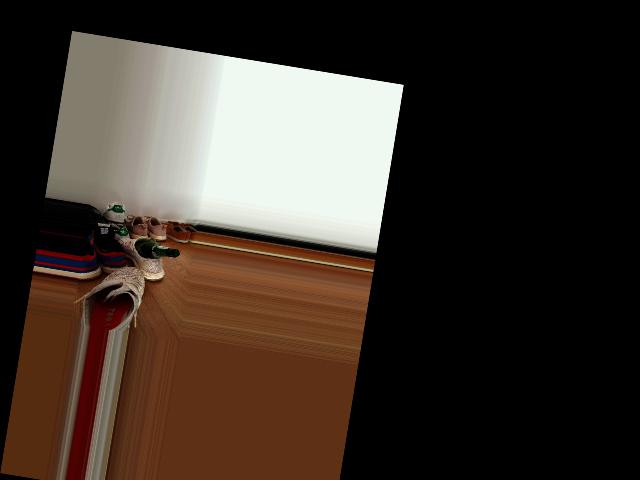beer: (133, 239, 181, 263)
